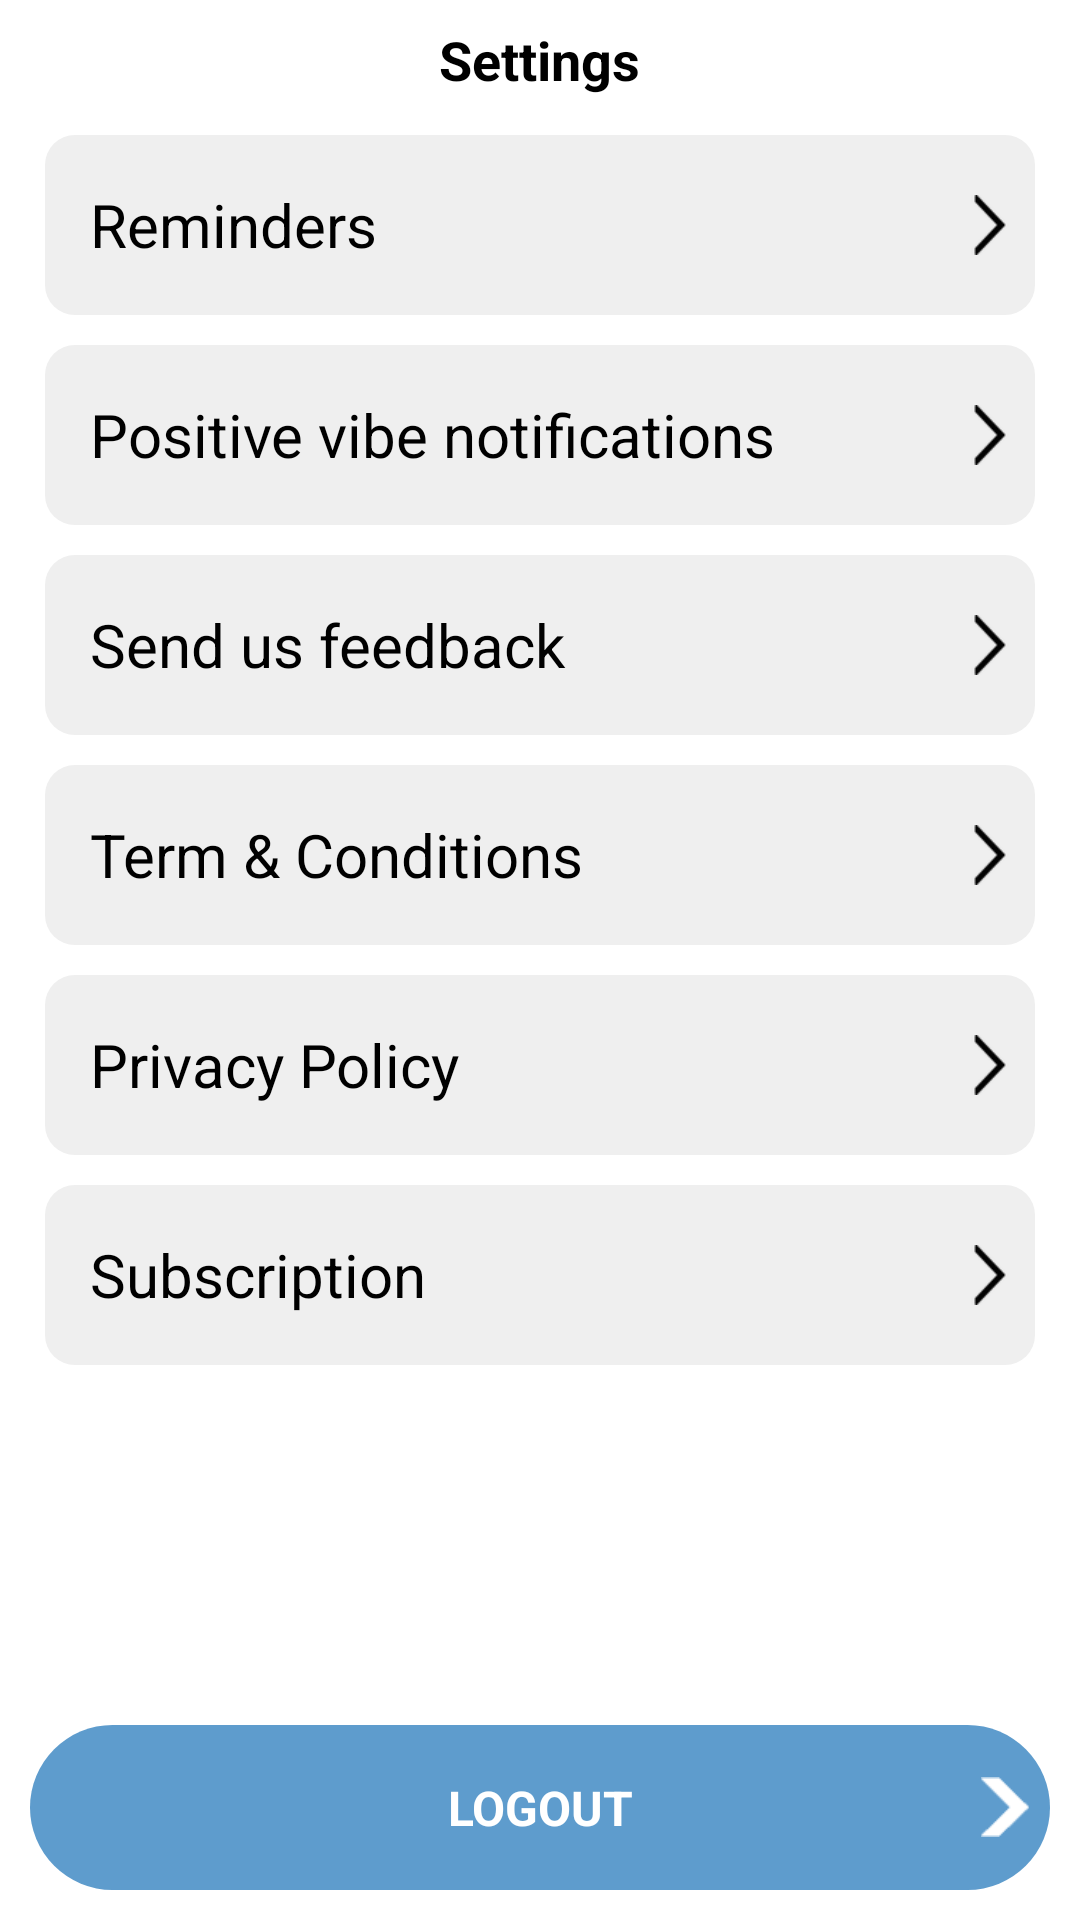

Screen size 1080px×1920px. Icon name, then its center in pixels as (x,y):
nextarrow: (1005,1807)
right aro: (990,225), (990,435), (990,645), (990,855), (990,1065), (990,1275)
